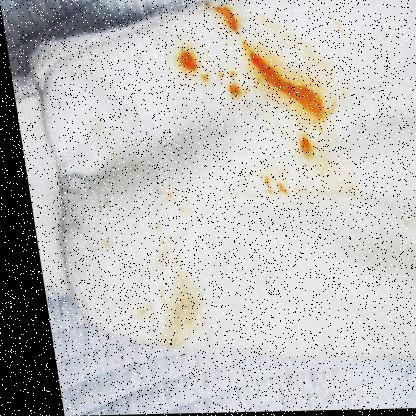kimchi: (236, 42, 337, 123), (155, 236, 204, 350), (135, 160, 197, 212), (171, 39, 213, 87), (201, 3, 246, 36), (252, 173, 294, 201), (286, 132, 325, 160), (223, 70, 244, 100), (133, 304, 152, 320), (97, 237, 115, 253)
